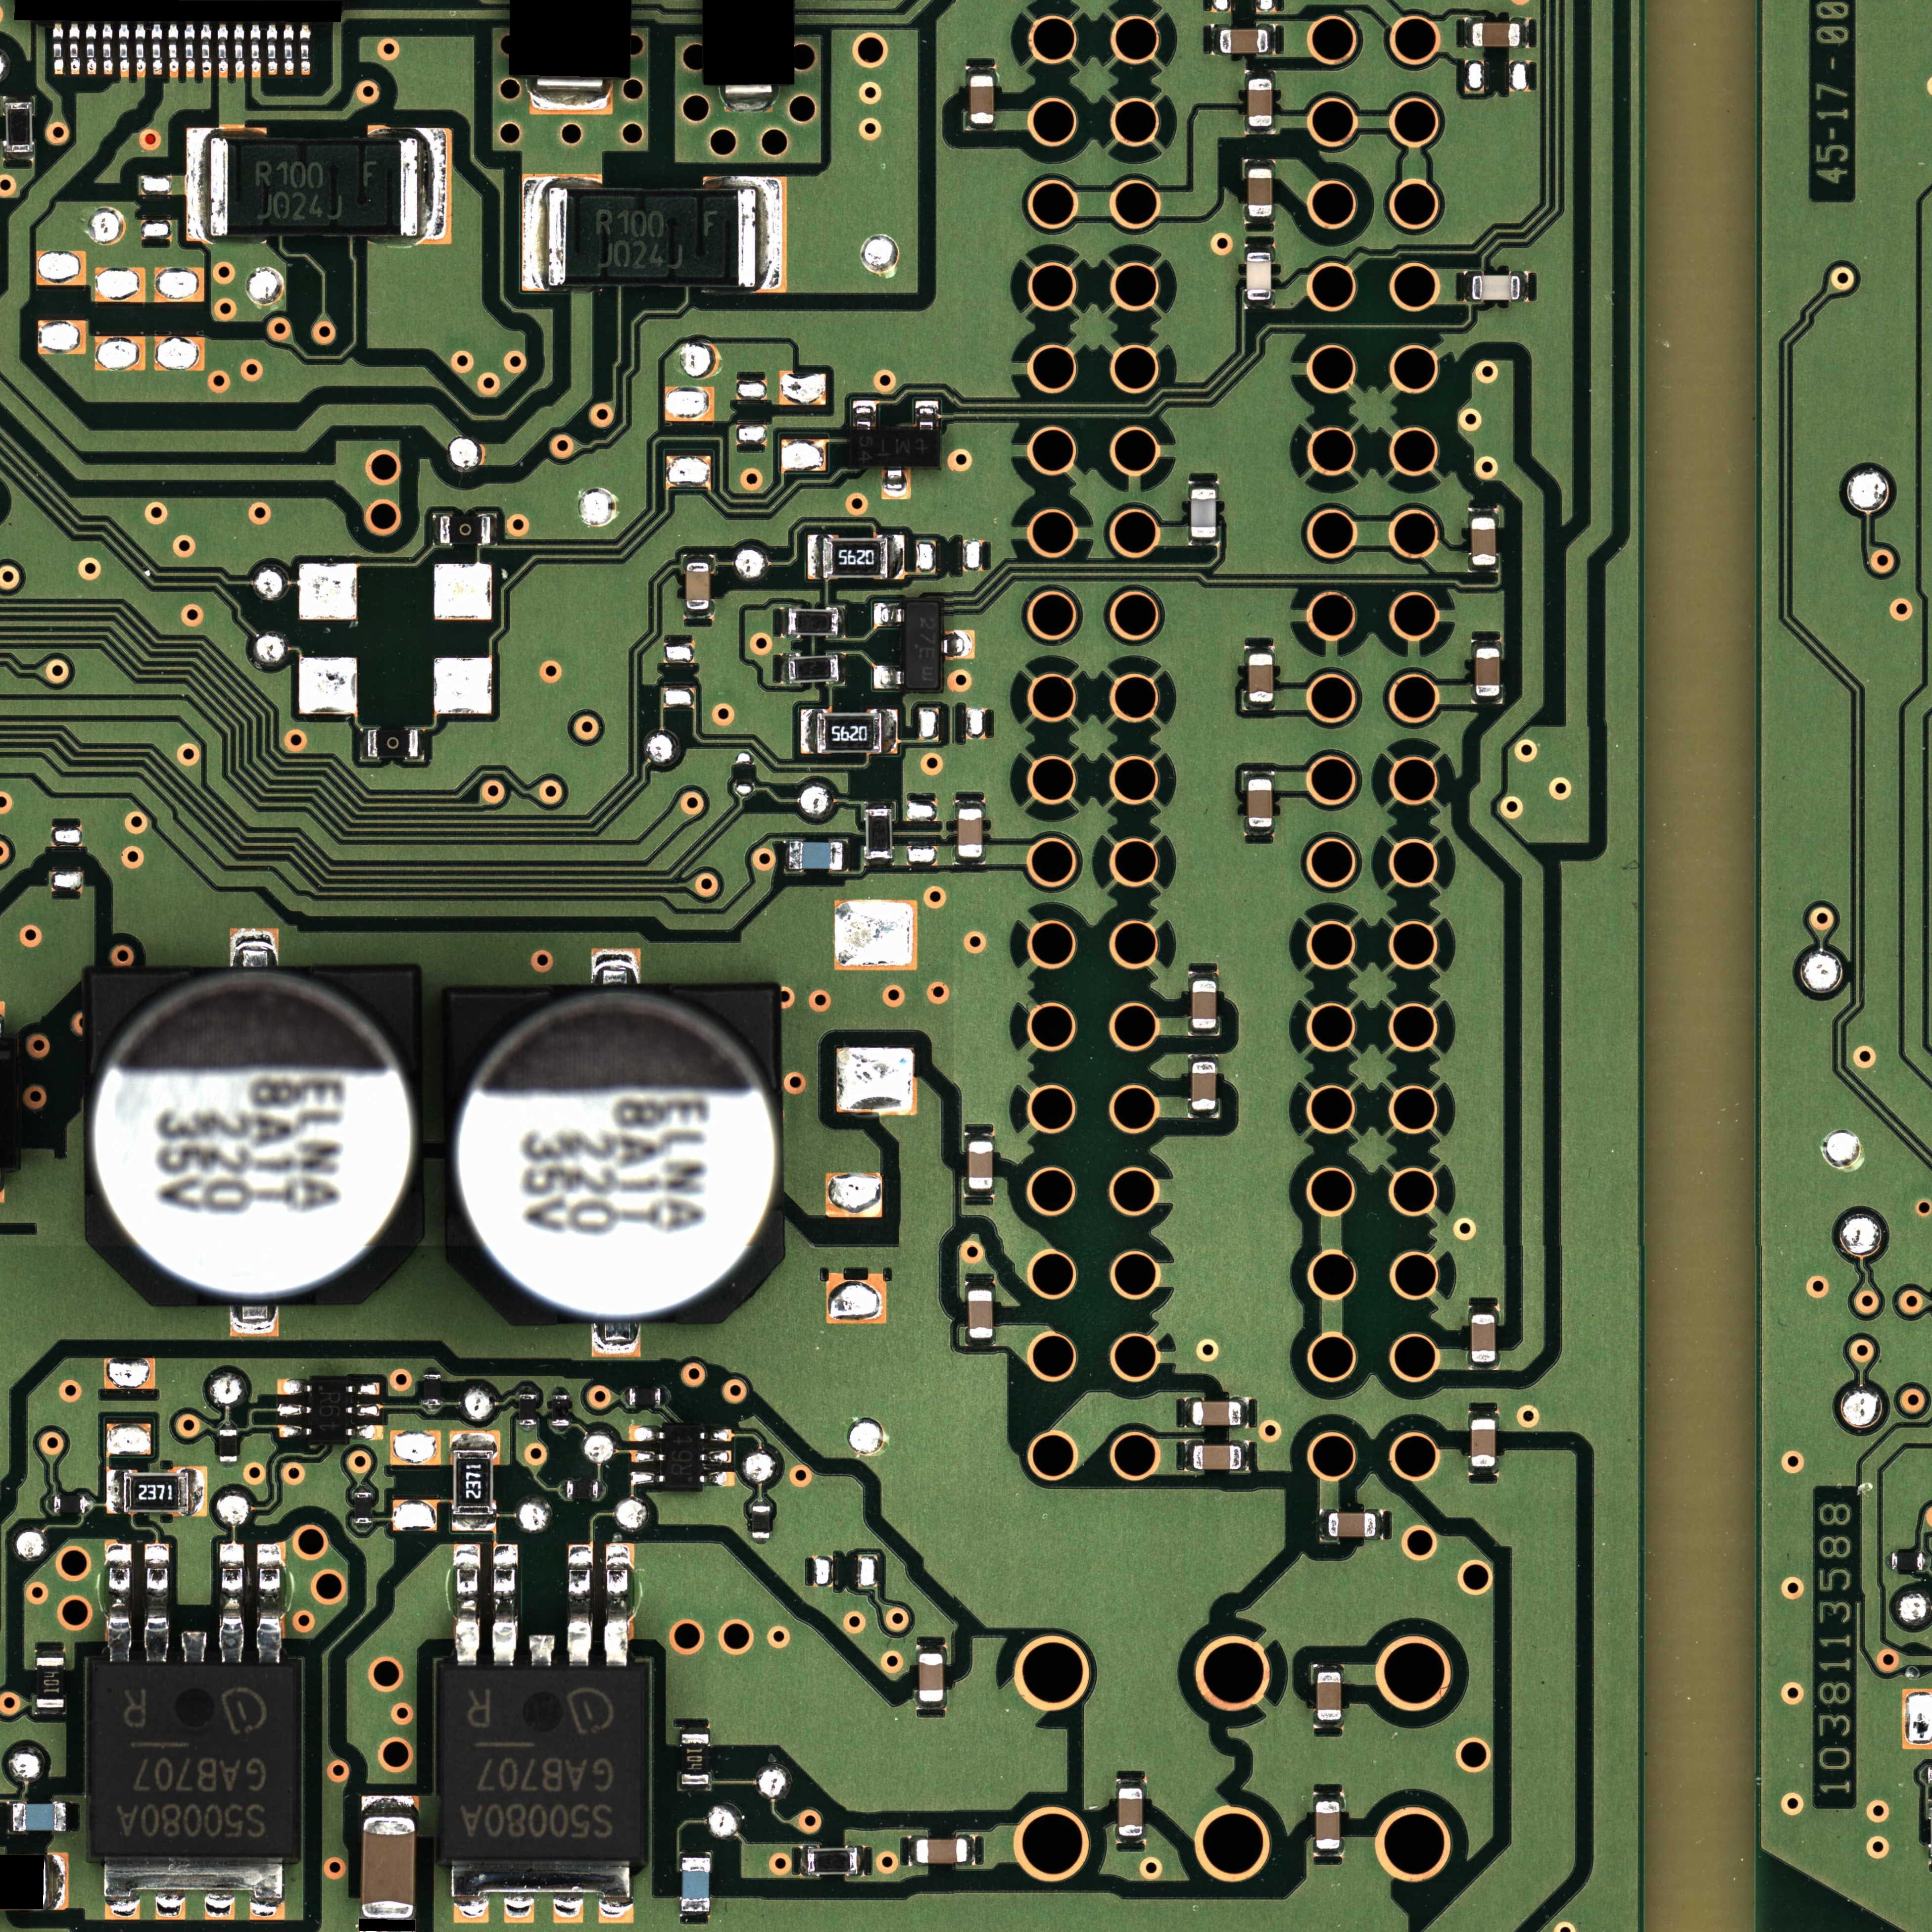Package: (442, 984, 787, 1322), (85, 968, 425, 1306), (439, 1667, 648, 1863), (90, 1663, 301, 1858), (211, 138, 418, 235), (548, 189, 755, 287), (364, 1817, 414, 1918), (851, 428, 938, 467), (904, 600, 941, 688), (823, 538, 888, 579), (453, 1451, 494, 1514), (124, 1472, 188, 1513), (817, 713, 881, 752), (663, 1424, 701, 1486), (310, 1380, 347, 1442), (681, 1858, 709, 1913), (12, 1803, 65, 1831), (789, 842, 842, 870), (681, 1734, 709, 1785), (441, 517, 490, 545), (368, 729, 418, 757), (789, 609, 839, 635), (789, 656, 839, 683), (37, 1658, 64, 1707), (916, 1838, 968, 1863), (809, 1847, 856, 1874), (1192, 1445, 1242, 1470), (1191, 488, 1215, 538), (1118, 1787, 1143, 1836), (7, 103, 32, 152), (867, 809, 892, 858), (1472, 276, 1520, 301), (1329, 1513, 1376, 1537), (1247, 168, 1272, 216), (1472, 23, 1520, 48), (1476, 648, 1500, 695), (1316, 1672, 1341, 1720), (970, 76, 994, 124), (968, 1141, 993, 1189), (968, 1290, 993, 1338), (1192, 1401, 1240, 1426), (1246, 253, 1270, 301), (1192, 980, 1217, 1028), (1221, 28, 1269, 53), (1247, 80, 1272, 126), (1249, 655, 1272, 702), (1316, 1801, 1339, 1849), (920, 1654, 943, 1702), (1192, 1062, 1215, 1109), (1472, 1419, 1495, 1467), (959, 809, 982, 856), (1472, 1315, 1495, 1362), (686, 563, 709, 610), (1472, 518, 1495, 564), (1249, 780, 1272, 826), (1891, 1552, 1923, 1571), (423, 1375, 442, 1405), (219, 1430, 237, 1461), (752, 1506, 770, 1537), (55, 1495, 85, 1513), (568, 1481, 598, 1499), (518, 1394, 536, 1424), (356, 1491, 372, 1523), (552, 1394, 568, 1426), (630, 1389, 660, 1405)
Solder: (104, 1859, 283, 1920), (453, 1867, 633, 1923), (492, 1543, 518, 1667), (257, 1543, 283, 1665), (605, 1543, 632, 1665), (106, 1541, 133, 1663), (143, 1543, 170, 1663), (529, 78, 612, 115), (455, 1543, 479, 1667), (568, 1545, 593, 1667), (419, 129, 446, 241), (219, 1545, 244, 1663), (522, 179, 547, 292), (186, 127, 211, 241), (757, 179, 782, 292), (230, 927, 278, 966), (591, 948, 640, 984), (591, 1323, 640, 1357), (230, 1306, 278, 1336), (722, 85, 775, 111), (48, 1854, 69, 1911), (359, 1796, 419, 1815), (941, 630, 975, 658), (189, 1467, 207, 1516), (883, 469, 911, 499), (451, 1431, 499, 1449), (529, 1635, 556, 1667), (106, 1470, 124, 1514), (182, 1631, 207, 1661), (800, 709, 816, 754), (888, 534, 904, 579), (881, 709, 897, 754), (874, 603, 904, 626), (853, 400, 876, 428), (915, 400, 938, 428), (874, 665, 902, 688), (451, 1516, 495, 1530), (809, 534, 823, 579), (701, 1470, 736, 1486), (184, 25, 195, 78), (168, 25, 179, 78), (218, 25, 228, 78), (202, 25, 212, 78), (251, 25, 262, 78), (235, 25, 246, 78), (53, 23, 64, 74), (69, 23, 80, 74), (87, 23, 97, 74), (103, 23, 113, 74), (119, 25, 129, 76), (134, 25, 145, 76), (267, 25, 278, 76), (283, 25, 294, 76), (630, 1426, 663, 1442), (301, 25, 310, 76), (278, 1424, 310, 1438), (278, 1380, 310, 1394), (701, 1428, 732, 1442), (349, 1382, 380, 1396), (152, 25, 161, 74), (347, 1426, 377, 1440), (701, 1449, 731, 1463), (630, 1472, 663, 1484), (632, 1451, 665, 1463), (278, 1405, 310, 1415), (1468, 1304, 1500, 1315), (1246, 69, 1276, 80), (349, 1405, 379, 1415), (1244, 159, 1276, 168), (1320, 1509, 1329, 1541), (954, 856, 985, 865), (679, 1849, 711, 1858), (1189, 538, 1219, 547), (1189, 1028, 1219, 1037), (1189, 971, 1219, 980), (1189, 479, 1219, 488), (1189, 1109, 1219, 1118), (683, 554, 713, 563), (1468, 1467, 1499, 1476), (4, 152, 34, 161), (1116, 1778, 1146, 1787), (1313, 1792, 1343, 1801), (1210, 25, 1219, 55), (1269, 25, 1277, 55), (683, 610, 713, 619), (1468, 1410, 1499, 1419), (1244, 702, 1274, 711), (1468, 508, 1499, 517), (916, 1644, 947, 1652), (1313, 1849, 1343, 1858), (966, 65, 996, 74), (1468, 1362, 1499, 1371), (1246, 126, 1276, 134), (1472, 639, 1502, 648), (432, 515, 441, 545), (679, 1725, 709, 1734), (916, 1702, 947, 1711), (1313, 1720, 1343, 1729), (1520, 271, 1529, 301), (1244, 828, 1274, 837), (964, 1132, 994, 1141), (964, 1189, 994, 1198), (780, 607, 789, 637), (800, 1845, 809, 1875), (1244, 301, 1274, 310), (35, 1649, 65, 1658), (1520, 18, 1529, 48), (1189, 1053, 1217, 1062), (839, 655, 847, 683), (955, 800, 984, 809), (966, 1281, 994, 1290), (780, 655, 789, 683), (1315, 1663, 1343, 1672), (964, 1339, 996, 1346), (34, 1707, 65, 1714), (1242, 1440, 1249, 1472), (5, 1801, 12, 1833), (679, 1785, 711, 1792), (966, 124, 996, 131), (1116, 1836, 1146, 1844), (1472, 697, 1502, 704), (418, 729, 425, 759), (361, 729, 368, 759), (839, 607, 846, 637), (1468, 566, 1499, 573), (1244, 771, 1274, 778), (490, 515, 497, 545), (1185, 1440, 1192, 1470), (865, 801, 895, 809), (1376, 1509, 1384, 1539), (1185, 1398, 1192, 1428), (1465, 18, 1472, 48), (858, 1845, 865, 1875), (4, 96, 34, 103), (1242, 1398, 1249, 1428), (67, 1801, 74, 1831), (782, 840, 789, 870), (1246, 244, 1274, 251), (1246, 646, 1274, 653), (909, 1836, 916, 1865), (968, 1836, 975, 1865), (681, 1913, 709, 1920), (1465, 272, 1472, 301), (865, 860, 893, 867), (1246, 218, 1274, 225), (842, 842, 849, 870), (423, 1366, 441, 1375), (354, 1523, 372, 1530), (423, 1405, 441, 1412), (219, 1422, 237, 1430), (752, 1539, 770, 1546), (518, 1387, 536, 1394), (518, 1424, 536, 1431), (561, 1481, 568, 1499), (219, 1461, 237, 1468), (552, 1426, 568, 1433), (598, 1483, 605, 1499), (554, 1387, 568, 1394), (48, 1495, 53, 1513), (752, 1500, 770, 1506), (1886, 1552, 1891, 1569), (625, 1389, 630, 1405), (356, 1486, 372, 1491), (85, 1497, 90, 1513), (1923, 1553, 1928, 1569), (662, 1389, 667, 1405)
